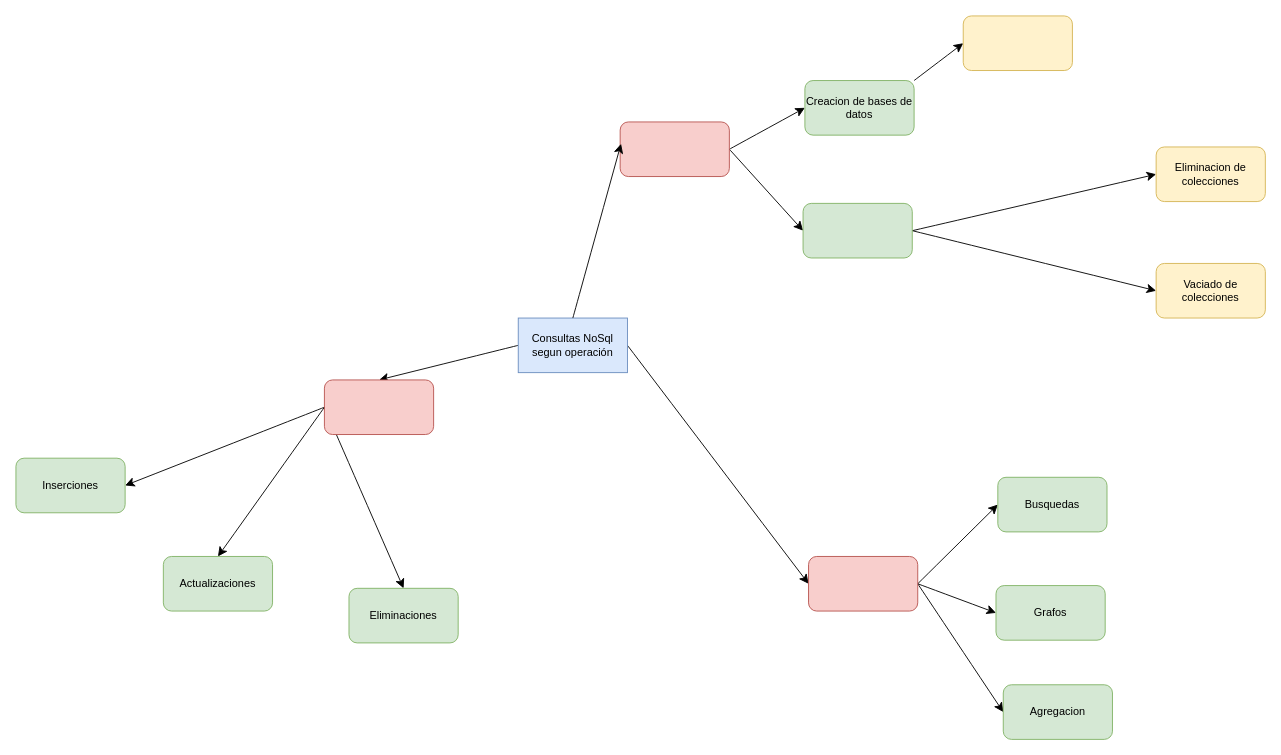
The diagram is 1281 pixels wide and 755 high, and some of its shapes have lost their labels. The centre of each missing label's shape, as x and y in pixels:
Creacion de colecciones: (x=857, y=230)
Definicion de estructuras: (x=674, y=149)
Eliminacion de bases de datos: (x=1017, y=43)
Escritura de datos: (x=379, y=407)
Lectura de datos: (x=863, y=583)
